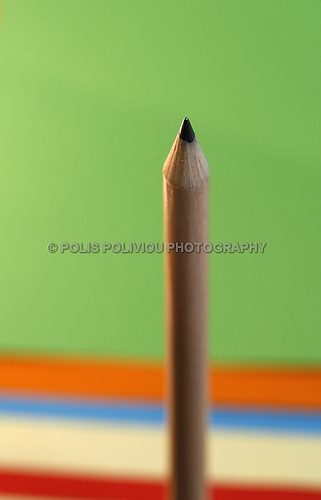pen_tip: (157, 113, 215, 204)
